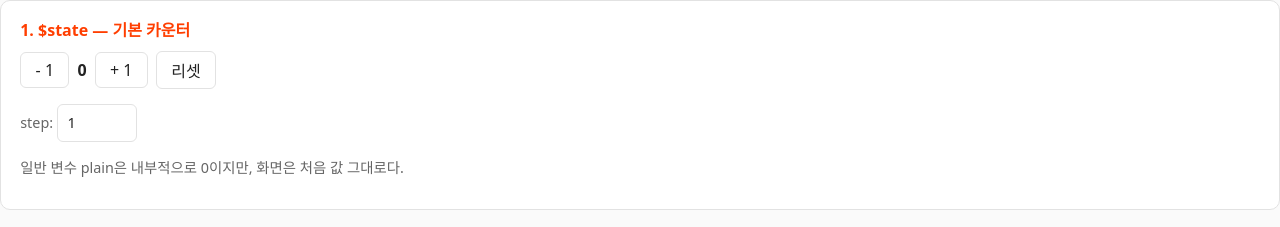
Test case: Counter (study2) › step을 바꾸면 버튼 이름과 증가량이 바뀐다
This screenshot has width=1280, height=227.
Replace the text in the number field with "5" at {"x": 97, "y": 123}, box [57, 104, 137, 142]
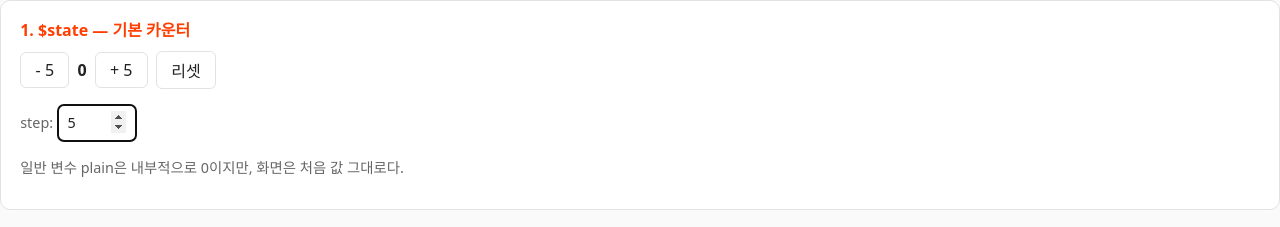
Click the button "+ 5" at {"x": 121, "y": 70}, box [95, 52, 148, 88]
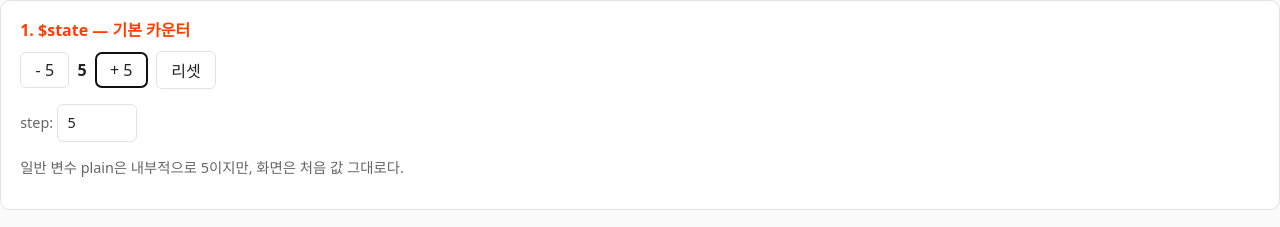
Now the text "5" is shown, box [77, 59, 87, 81]
